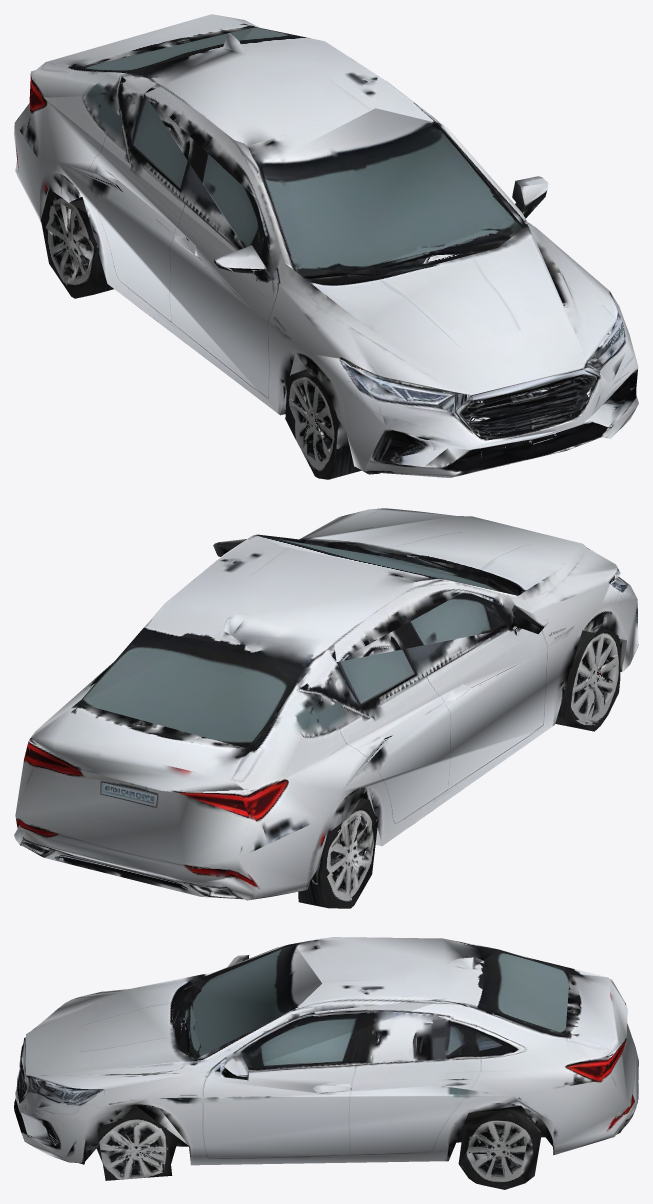
File: teleopSedan.glb
3 renders of one model, top to bottom at view 1: azimuth 30°, elevation 25°; view 2: azimuth 150°, elevation 25°; view 3: azimuth 270°, elevation 25°, orthographic. The views are drawn at different scales.
Visible parts, largest first — view 1: sedan; view 2: sedan; view 3: sedan.
Part boxes in pixels (bbox=[...]): sedan: bbox=[14, 14, 638, 479]; sedan: bbox=[14, 508, 638, 908]; sedan: bbox=[14, 937, 638, 1189].
Bounding box in the file's own units: 2.21 × 1.56 × 4.84.
1 material, 1 textured.
